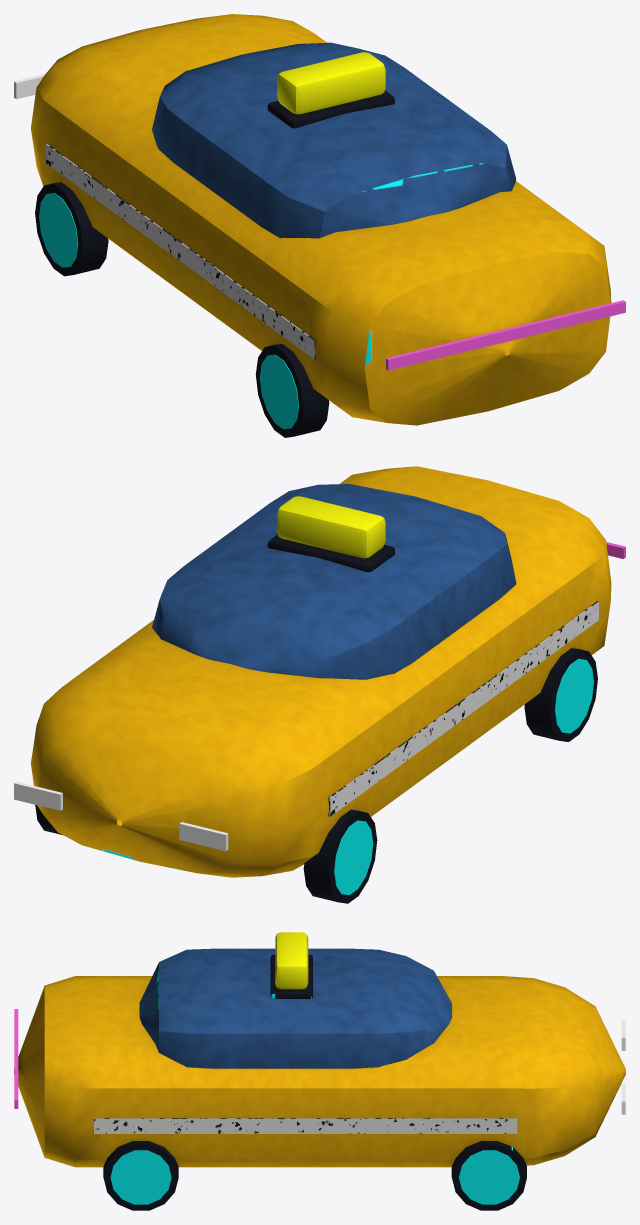
File: hover_taxi.fbx
The picture shows the model from 3 angles, top to bottom: view 1: azimuth 30°, elevation 25°; view 2: azimuth 150°, elevation 25°; view 3: azimuth 270°, elevation 25°; orthographic projection. The views are drawn at different scales.
Visible parts, largest first — view 1: hover_taxi, hover_taxi_glow2, hover_taxi_glow; view 2: hover_taxi, hover_taxi_glow2, hover_taxi_glow; view 3: hover_taxi, hover_taxi_glow, hover_taxi_glow2.
Boxes of the visible parts, x1,y1,x2,y2 form: hover_taxi: (14,14,611,437); hover_taxi_glow2: (277,52,625,370); hover_taxi_glow: (39,193,298,429); hover_taxi: (14,466,611,903); hover_taxi_glow2: (277,496,625,558); hover_taxi_glow: (334,658,593,895); hover_taxi: (14,948,625,1210); hover_taxi_glow: (110,1150,519,1204); hover_taxi_glow2: (14,932,308,1108).
Size of the model in its own units: 572 by 483 by 1300.
1 material, 1 textured.
